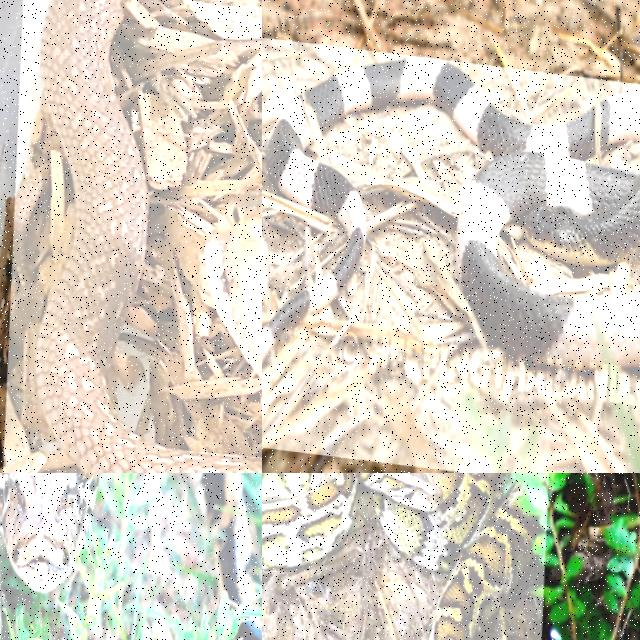Bungarus candidus: (306, 58, 639, 366)
Naja kaouthia: (33, 0, 261, 472)
Python bivittatus: (262, 473, 532, 639), (0, 473, 98, 591)
